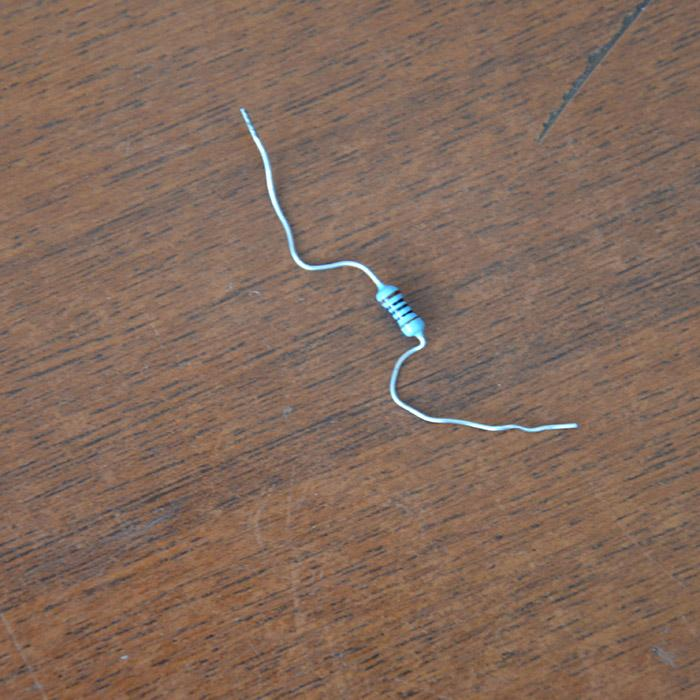resistor: (370, 282, 427, 341)
